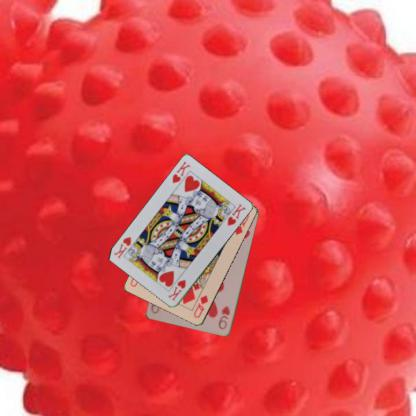9h: (216, 303, 231, 330)
Kh: (169, 159, 192, 185), (165, 278, 187, 302)
Qd: (191, 292, 210, 320)
